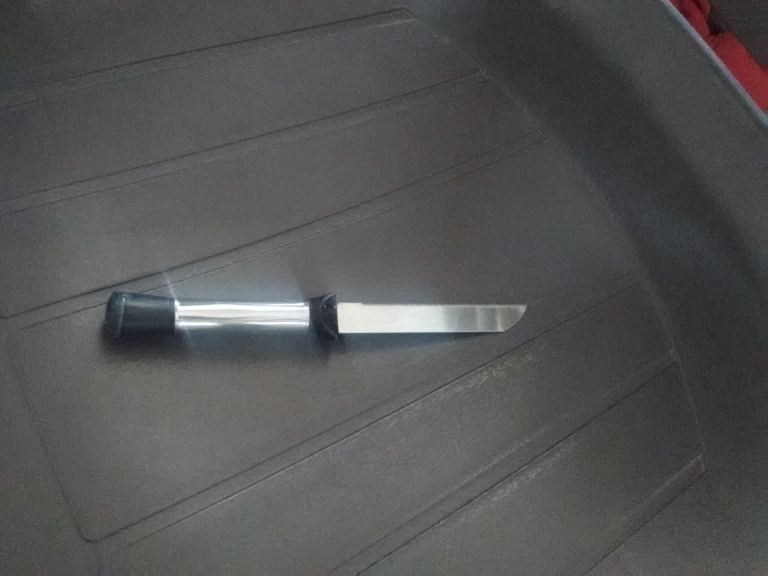knife: (100, 283, 530, 346)
